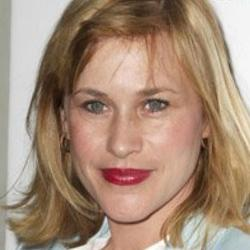face: (6, 1, 249, 233)
